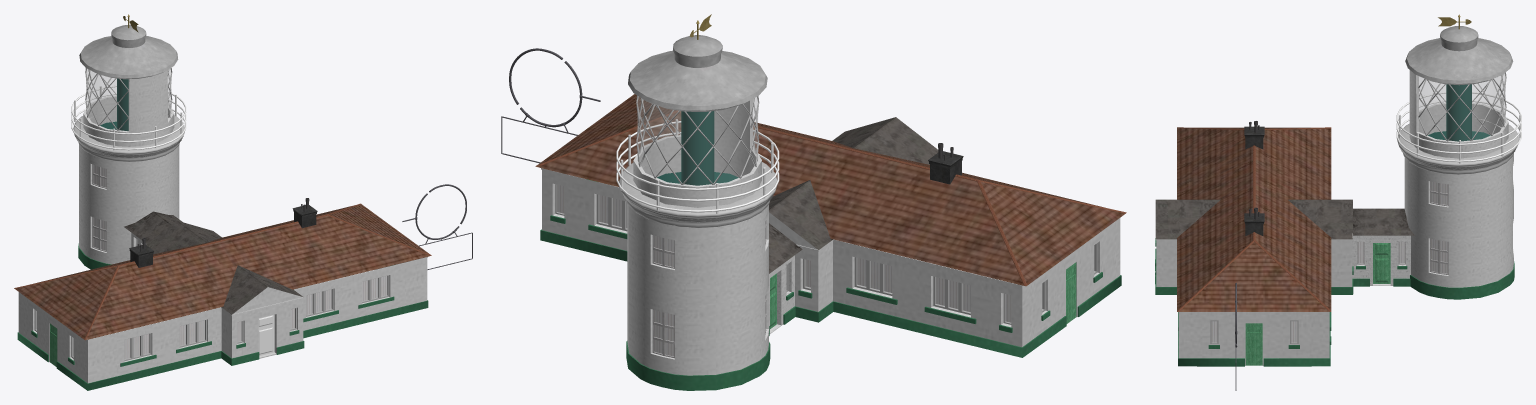
File: lighthouse_club.glb
3 views of the same model, side by side, from view 1: azimuth 30°, elevation 25°; view 2: azimuth 150°, elevation 25°; view 3: azimuth 270°, elevation 25° (orthographic). The views are drawn at different scales.
Visible parts, largest first — view 1: lighthouse_club; view 2: lighthouse_club; view 3: lighthouse_club.
Boxes of the visible parts, box(x1,y1,x2,y2) form: lighthouse_club: box(14, 14, 472, 390); lighthouse_club: box(501, 14, 1126, 390); lighthouse_club: box(1155, 14, 1521, 390).
Size of the model in its own units: 5.38 by 2.99 by 3.79.
Materials: 33 (28 with a texture image).
